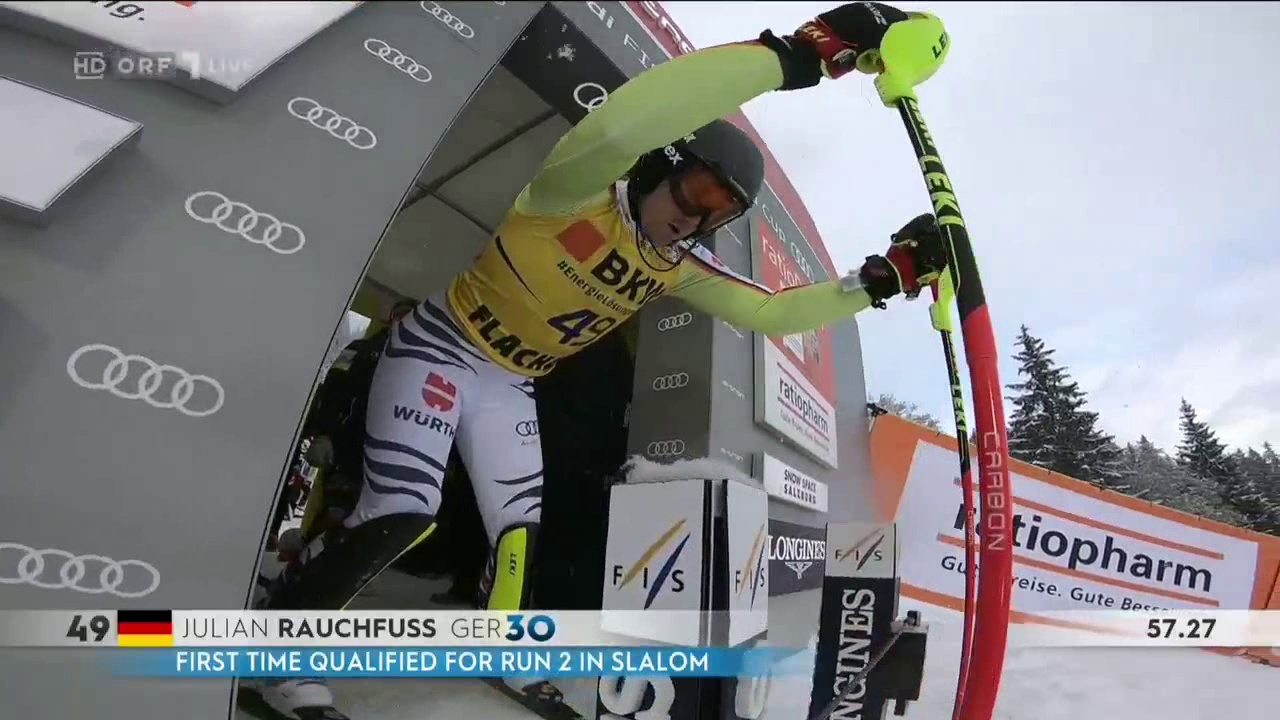audi: (68, 345, 224, 428), (181, 191, 313, 264), (1, 546, 161, 601), (283, 96, 386, 152), (360, 39, 439, 88), (418, 4, 481, 42), (649, 372, 695, 396), (643, 440, 689, 464), (654, 315, 698, 337)
longines: (809, 597, 878, 718), (767, 532, 830, 598)
ratiopharm: (1016, 481, 1237, 621), (768, 373, 841, 448)
